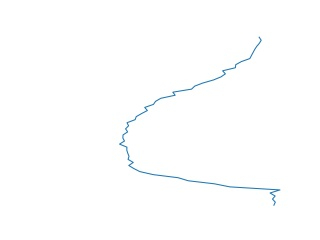underwaterDistributaryChannel: (117, 35, 284, 206)
